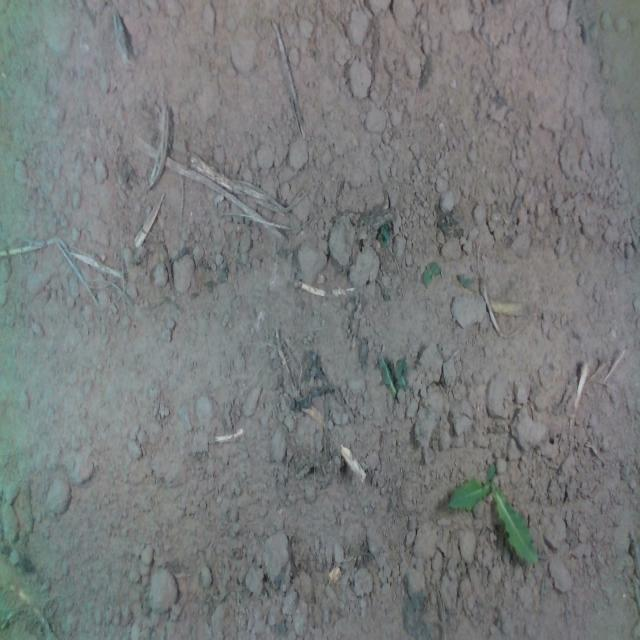weed: (447, 457, 538, 565)
